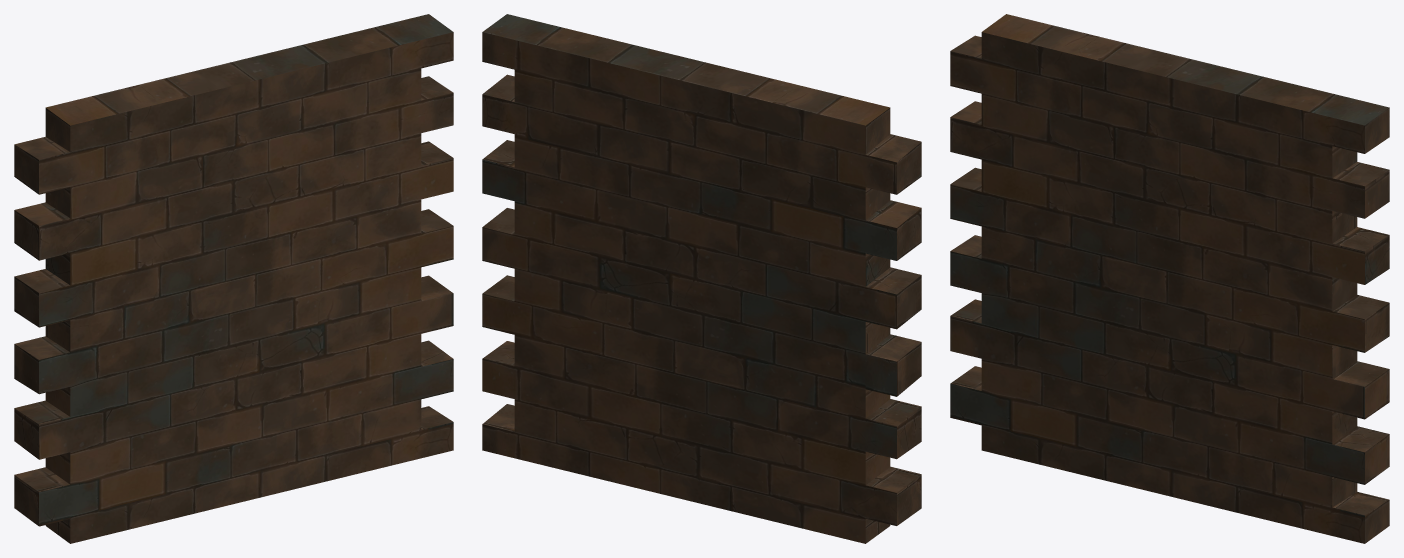
File: Stone_wall_ct.fbx
3 views of the same model, side by side, from view 1: azimuth 30°, elevation 25°; view 2: azimuth 150°, elevation 25°; view 3: azimuth 330°, elevation 25° (orthographic).
Parts seen in each view (by area): view 1: ściana.002; view 2: ściana.002; view 3: ściana.002.
Boxes of the visible parts, x1,y1,x2,y2 form: ściana.002: (14, 14, 453, 543); ściana.002: (482, 14, 921, 543); ściana.002: (950, 14, 1389, 543).
Size of the model in its own units: 518 by 500 by 53.54.
Materials: 1 (1 with a texture image).
